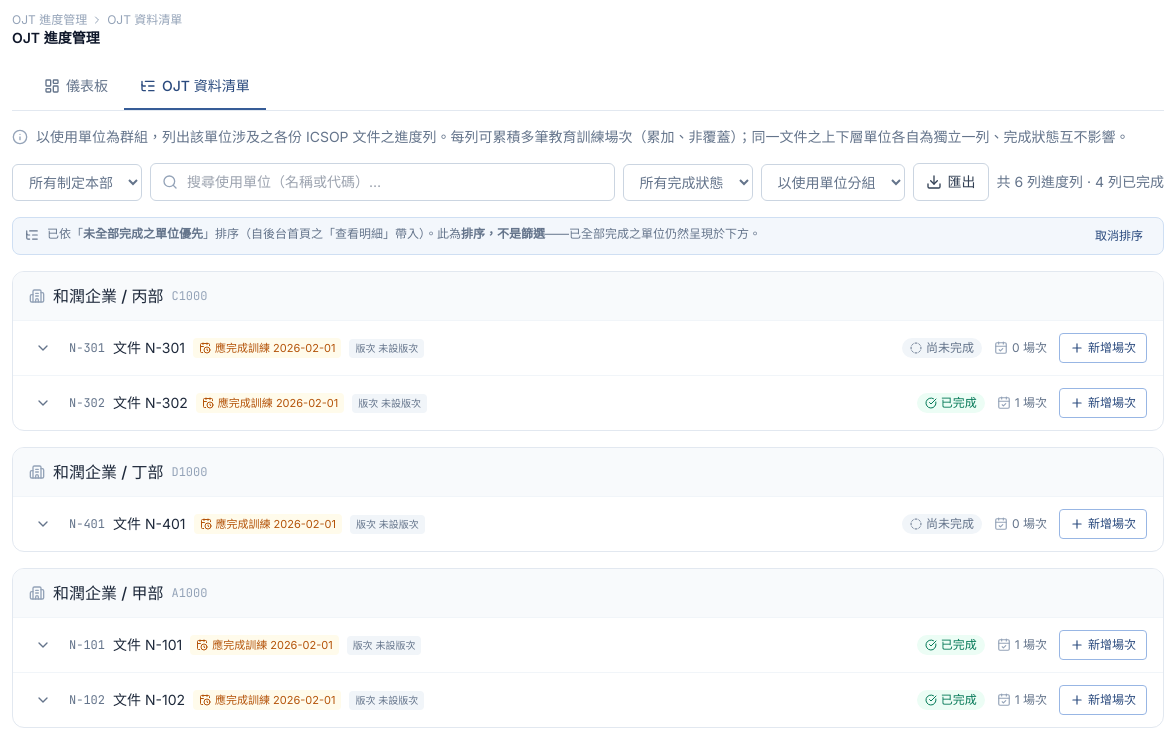
Scenario: AC-G20／AC-G93 — incomplete-first 之分段與段內次序 › AC-G92：切回 `以使用單位分組` ⇒ 排序復效（參數本身不被清掉）
Select "以文件分組" in the dropdown named "資料清單之分組方式" at {"x": 832, "y": 182}, box [760,164,904,200]
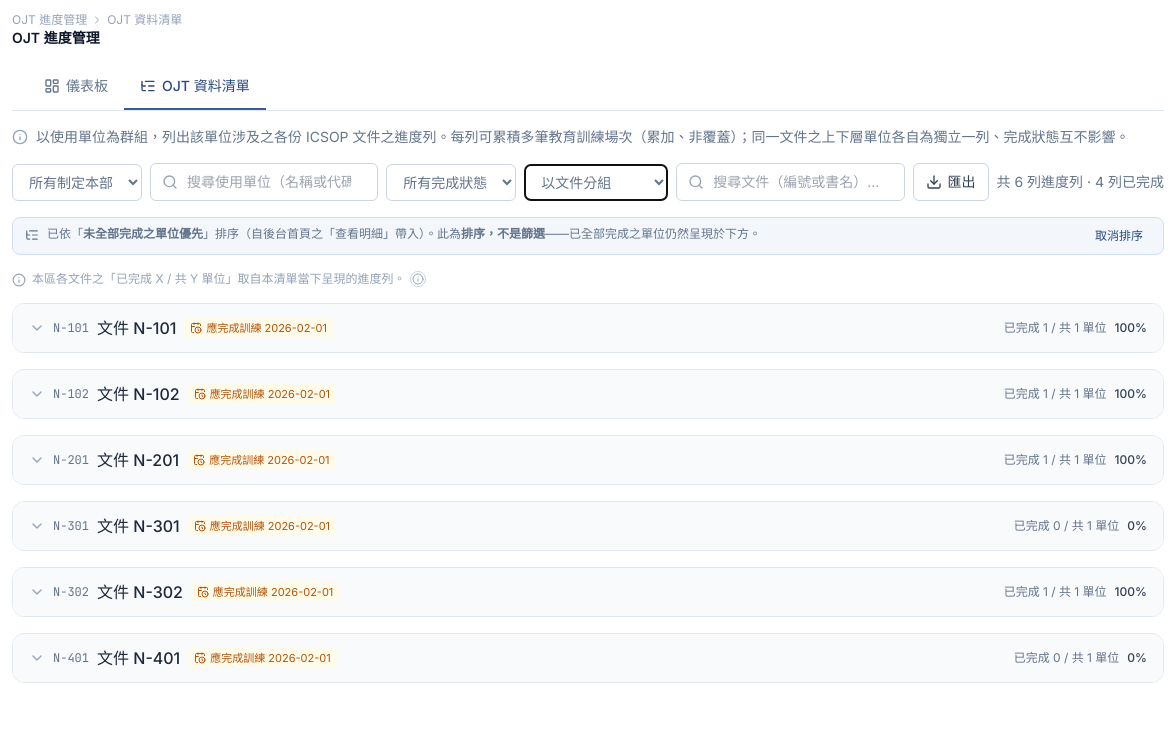
Select "以使用單位分組" in the dropdown named "資料清單之分組方式" at {"x": 596, "y": 182}, box [524,164,668,200]
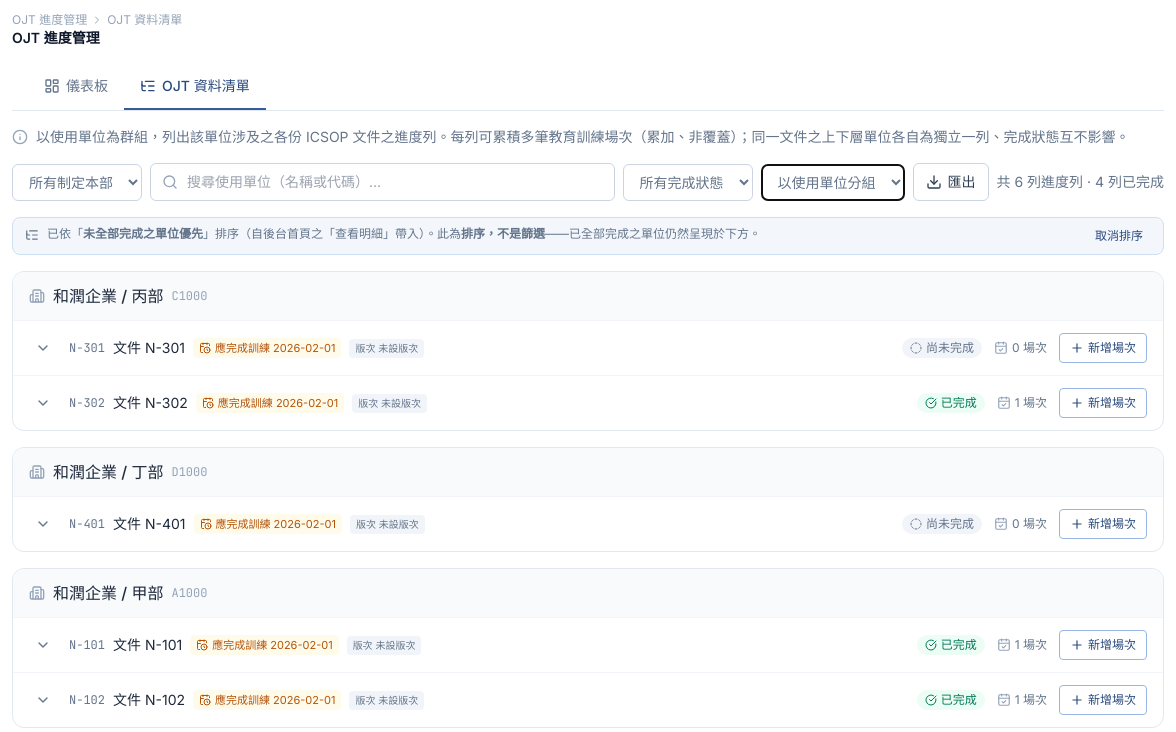
Expected: the tab "OJT 資料清單" is shown, [124,64,266,110]
Expected: the element that starts with "和潤企業 / 丙部" is shown, [12,271,1164,431]
